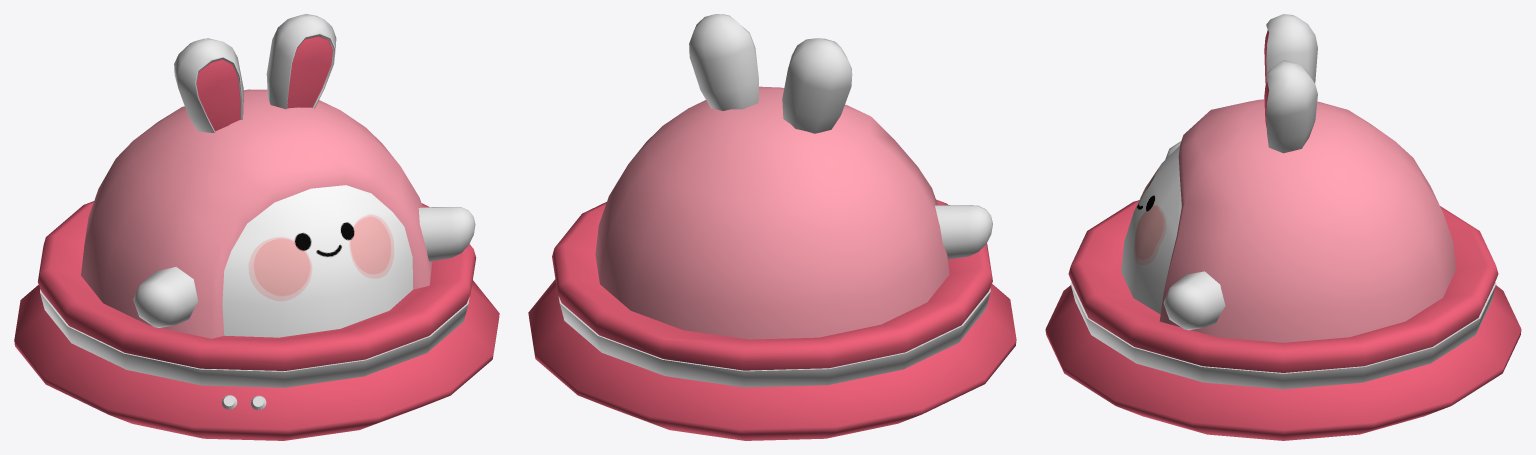
File: tori.glb
3 views of the same model, side by side, from view 1: azimuth 30°, elevation 25°; view 2: azimuth 150°, elevation 25°; view 3: azimuth 270°, elevation 25° (orthographic). The views are drawn at different scales.
Parts seen in each view (by area): view 1: Sphere; view 2: Sphere; view 3: Sphere.
Part boxes in pixels (bbox=[...]): Sphere: bbox=[14, 14, 499, 440]; Sphere: bbox=[528, 14, 1016, 440]; Sphere: bbox=[1045, 14, 1521, 440].
Bounding box in the file's own units: 1.68 × 1.43 × 1.68.
Materials: 5 (1 with a texture image).
